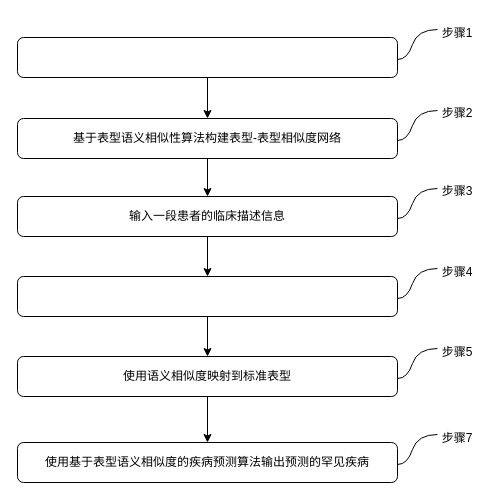
Some shapes in this 500 by 500 pixel diagram are drawn without their labels. The centre of each missing label's shape, as x and y in pixels:
使用语义识别从临床信息中提取表型: point (207, 296)
构建表型-罕见疾病网络数据库: point (207, 57)
